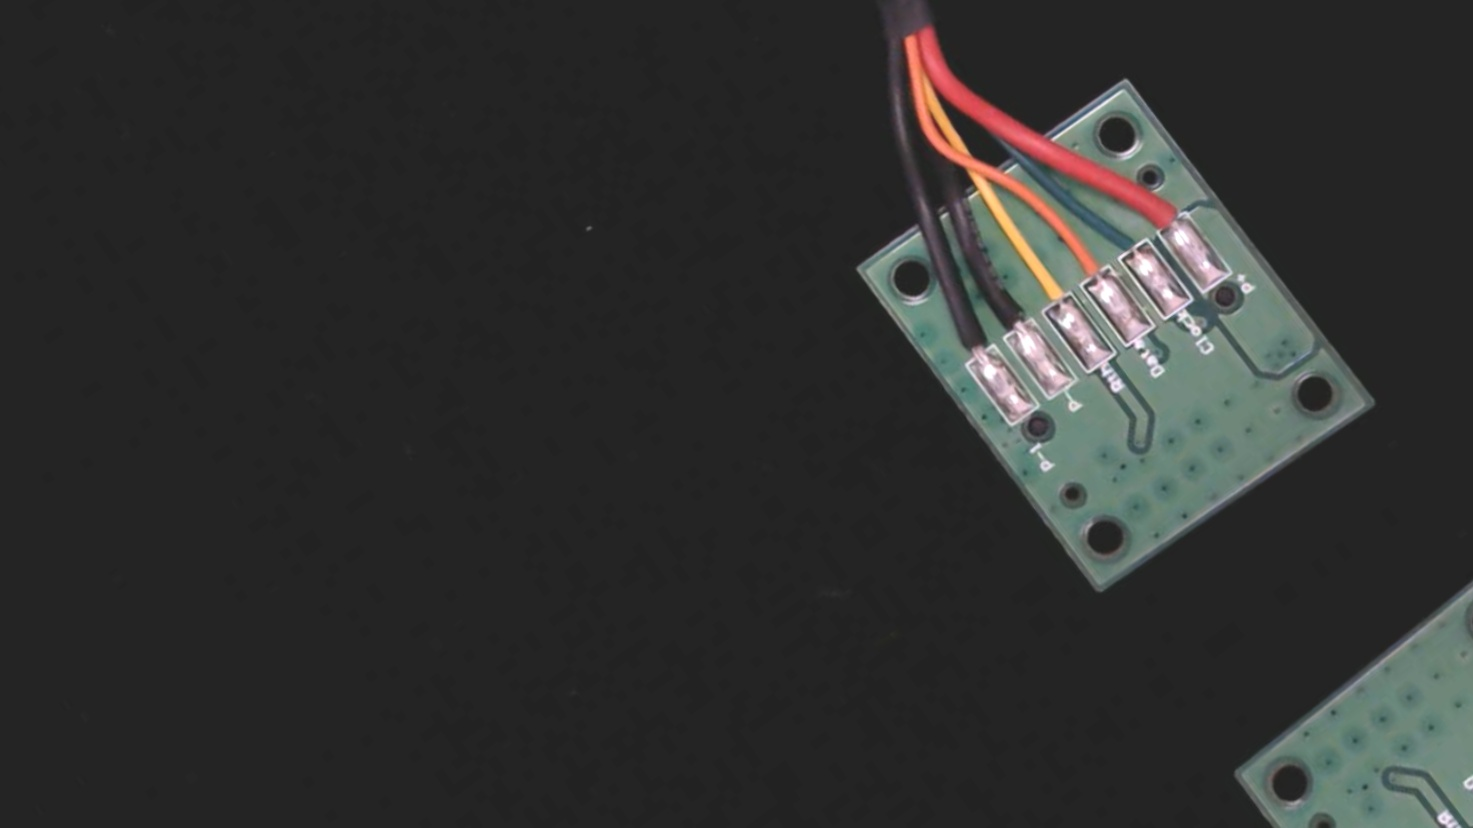Black: (967, 266, 1047, 353)
Black1: (923, 294, 1006, 382)
Green: (1084, 195, 1163, 277)
Orange: (1048, 222, 1125, 303)
Red: (1117, 160, 1203, 251)
Yellow: (1008, 245, 1082, 327)
